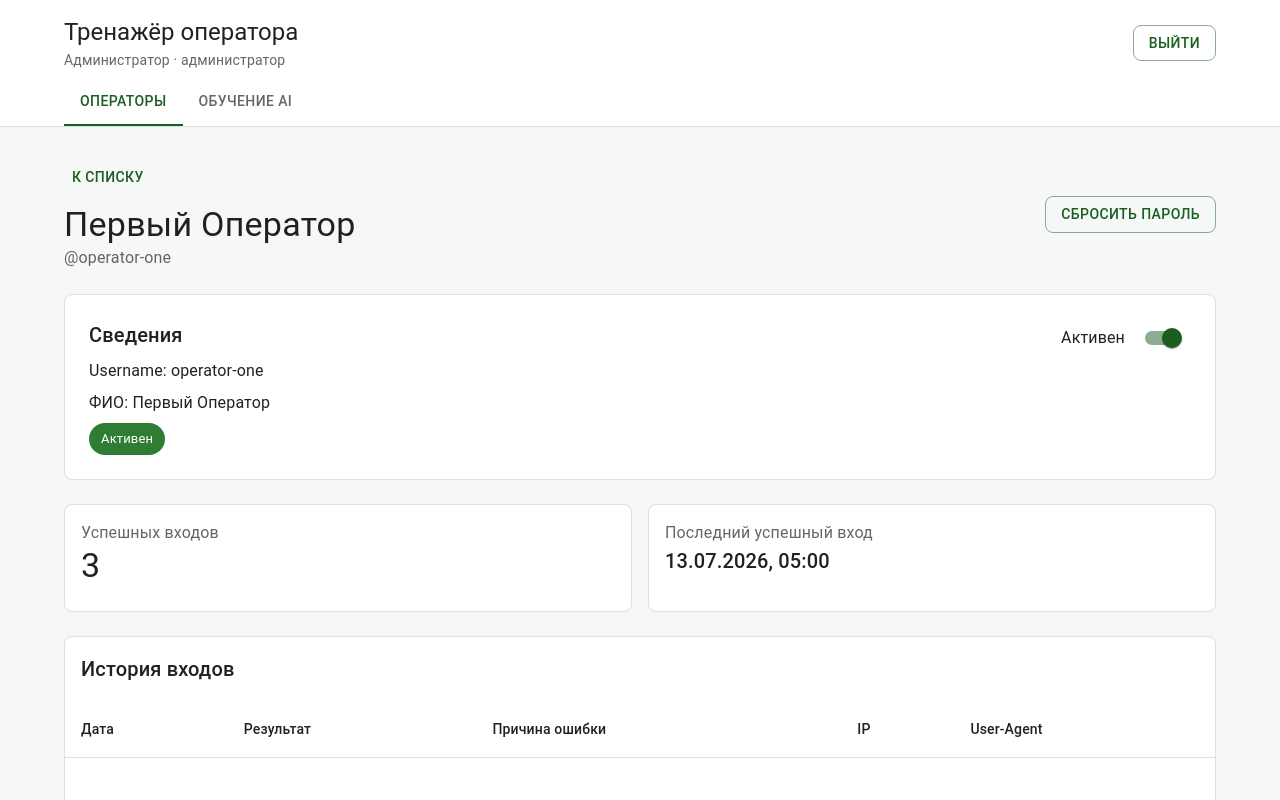
it: admin operators › deactivates operator after confirmation
This screenshot has width=1280, height=800.
expect the heading "Первый Оператор" is shown: met, box x1=64 y1=204 x2=356 y2=246
Click the checkbox named "Изменить активность оператора" at [1122, 338], box x1=1061 y1=328 x2=1182 y2=348
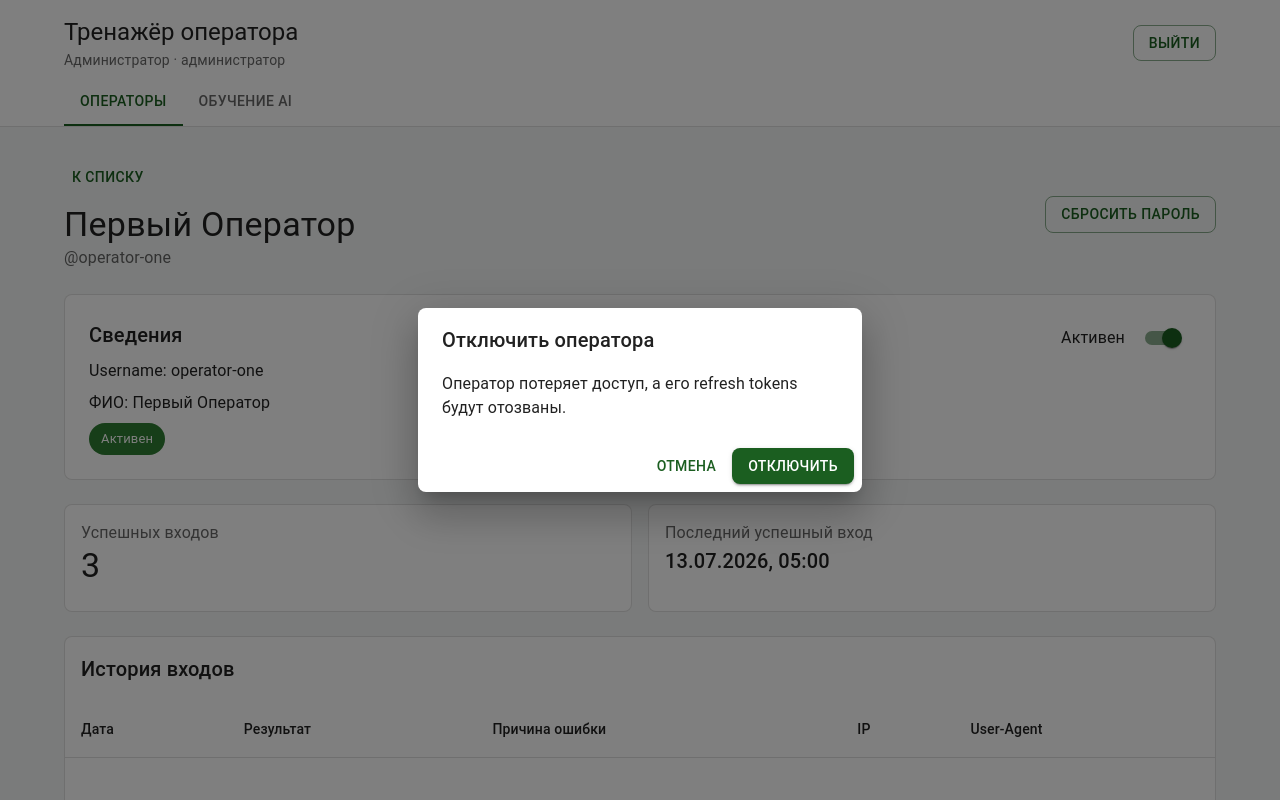
Click the button "Отключить" at [793, 466], box x1=732 y1=448 x2=854 y2=484
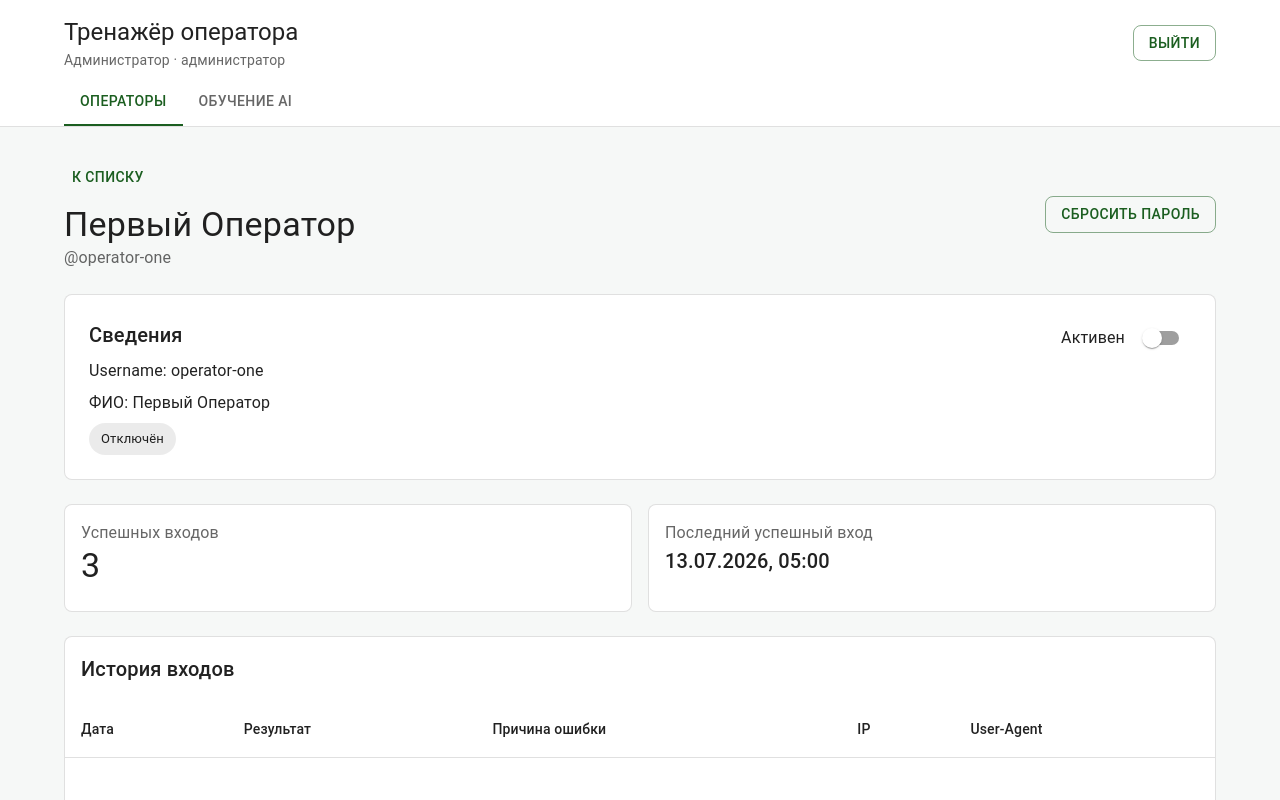
expect the text "Отключён" is shown: met, box x1=101 y1=431 x2=164 y2=446
